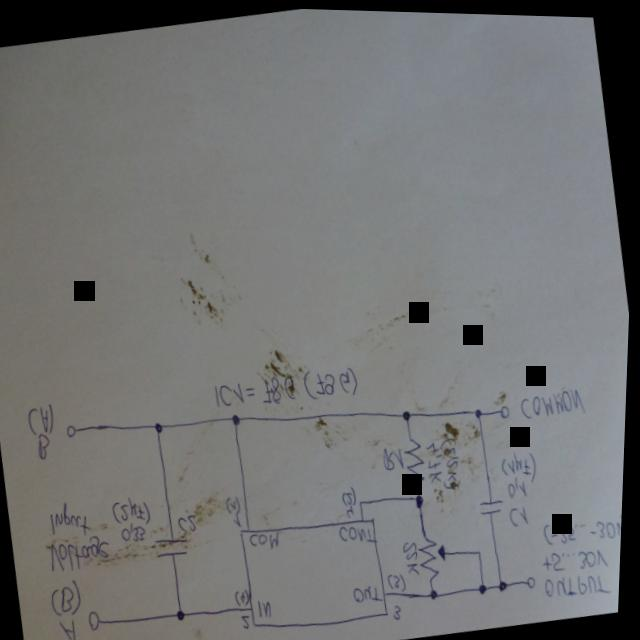capacitor: (154, 532, 194, 560), (480, 495, 506, 515)
junction: (414, 489, 431, 508), (474, 403, 487, 419), (154, 420, 167, 435), (231, 411, 244, 426), (178, 607, 190, 622), (402, 407, 414, 422), (499, 577, 512, 590), (480, 580, 491, 593), (431, 586, 442, 599), (478, 546, 485, 555), (359, 496, 366, 505)
resistor: (417, 528, 454, 581), (402, 433, 431, 484)
terminal: (87, 608, 107, 634), (525, 570, 543, 589), (65, 421, 81, 441), (499, 399, 514, 420)
text: (214, 358, 362, 416), (533, 505, 626, 549), (49, 531, 118, 578), (544, 563, 616, 602), (517, 380, 589, 419), (543, 539, 616, 573), (48, 496, 97, 543), (50, 576, 89, 620), (112, 492, 157, 530), (500, 445, 542, 483), (439, 434, 468, 489), (425, 435, 450, 490), (26, 400, 61, 437), (340, 519, 378, 545), (404, 535, 425, 577), (177, 507, 206, 536), (381, 442, 409, 472), (355, 582, 389, 606), (121, 520, 152, 545), (252, 528, 284, 550), (59, 615, 86, 640), (35, 432, 56, 463), (509, 501, 532, 527), (507, 473, 531, 496), (389, 569, 412, 592), (258, 596, 277, 619), (226, 494, 245, 516), (343, 485, 360, 509), (236, 587, 254, 607), (242, 612, 256, 631), (394, 602, 406, 619), (234, 511, 246, 528), (348, 505, 357, 516)
